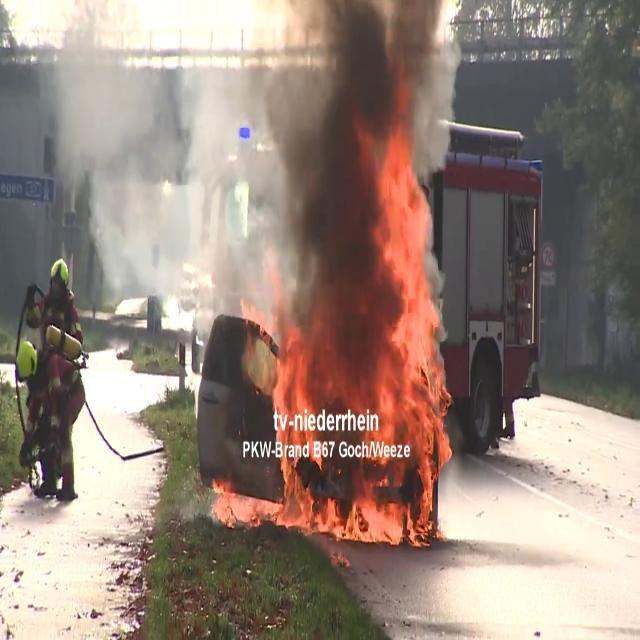Fire: (270, 131, 456, 548), (207, 471, 262, 532)
Smoke: (11, 1, 264, 300), (262, 1, 454, 332)
